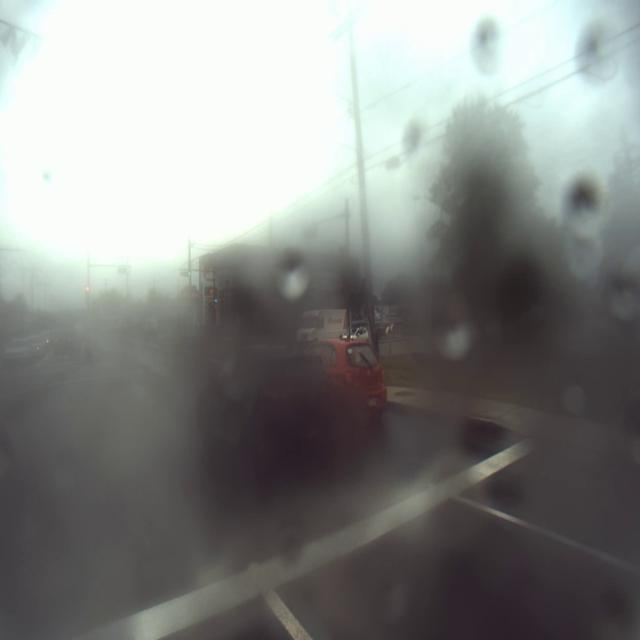car: (194, 339, 341, 467)
